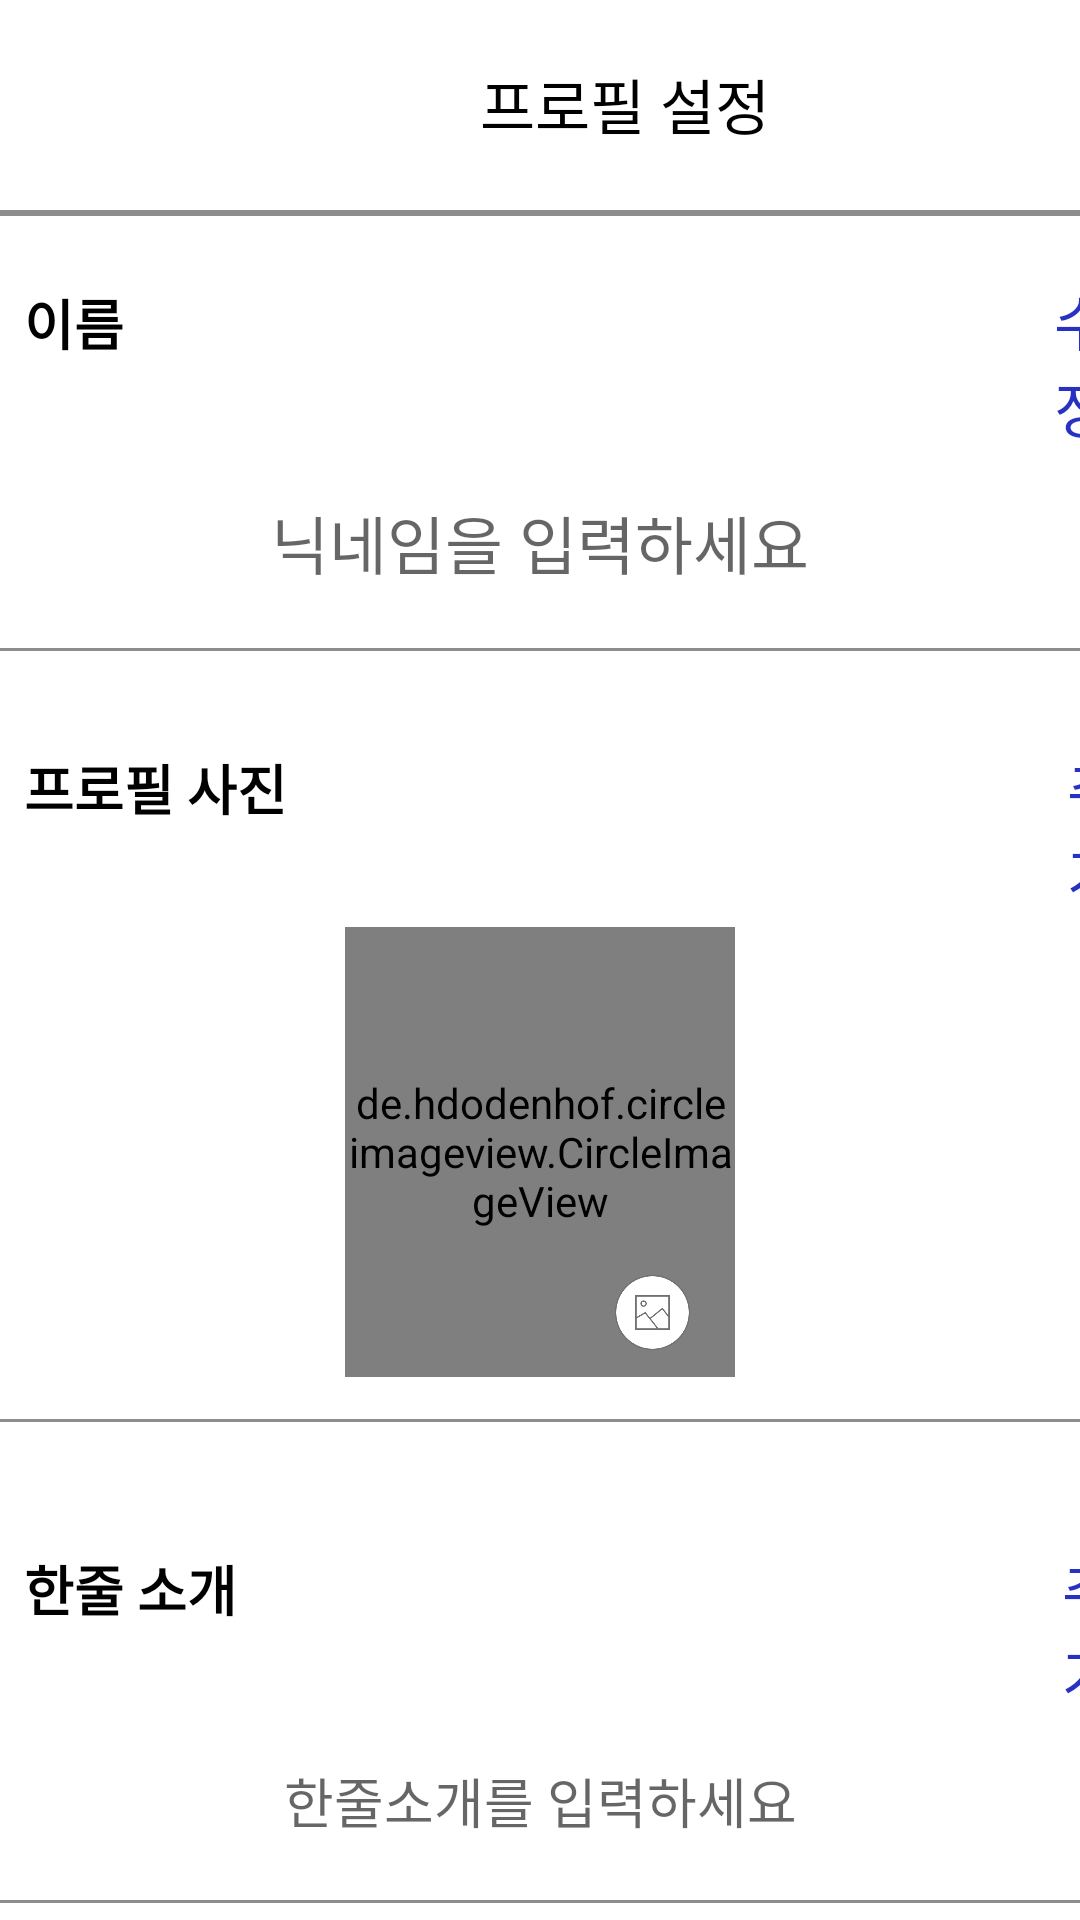

Locate icon controls on the screen. Image size 1080×1920, boxes as detection(x1, y1, x2, y2).
edit gallery: detection(616, 1276, 689, 1349)
